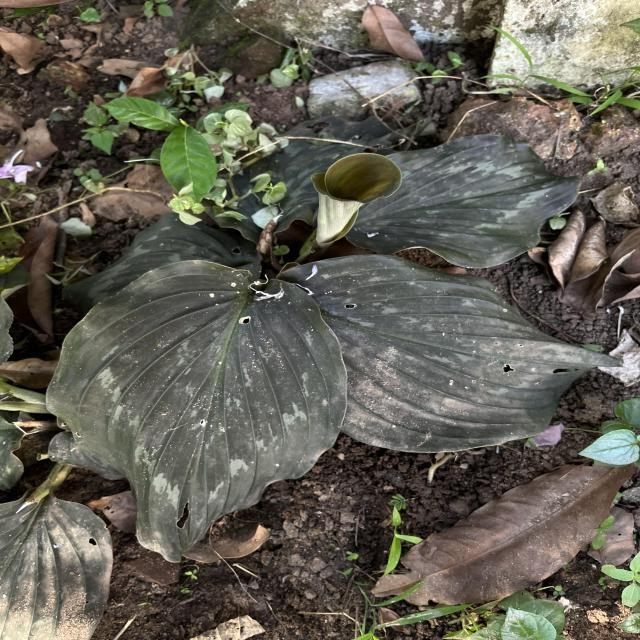Kaempferia galanga linn: (42, 256, 350, 566), (272, 250, 626, 454)
